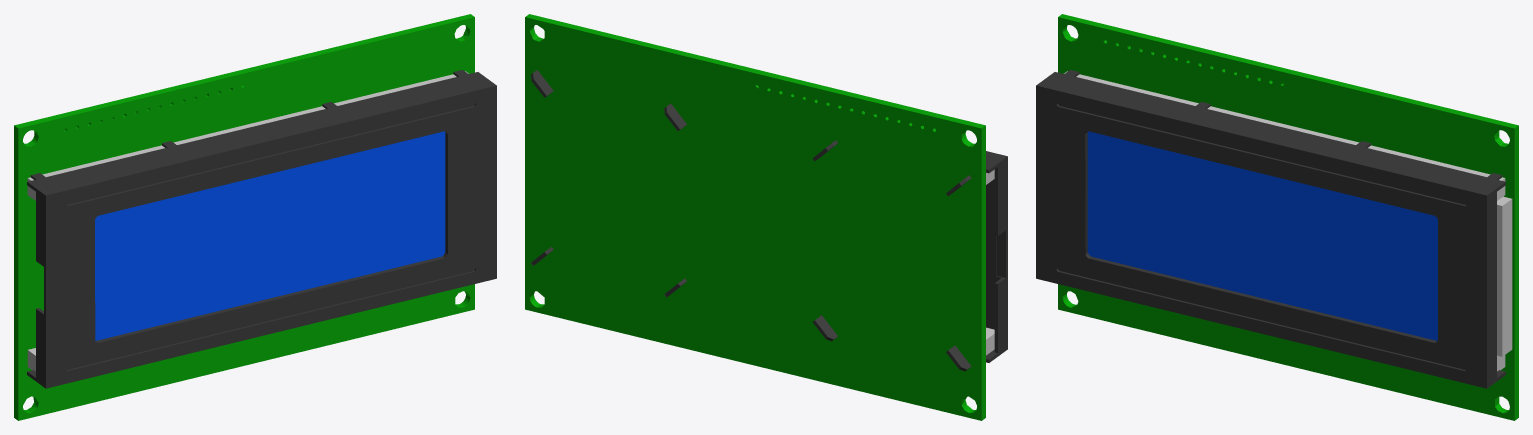
Rendered from lcd-20x4.glb.
3 views of the same model, side by side, from view 1: azimuth 30°, elevation 25°; view 2: azimuth 150°, elevation 25°; view 3: azimuth 330°, elevation 25° (orthographic).
Parts seen in each view (by area): view 1: part1, part3, part2, part0; view 2: part2, part1; view 3: part1, part3, part2, part0.
Part boxes in pixels (x1,y1,x2,y2): part1: (27,70,496,388); part3: (95,131,445,340); part2: (14,14,474,420); part0: (27,71,468,371); part2: (525,14,985,420); part1: (531,70,1007,371); part1: (1036,70,1505,388); part3: (1087,131,1437,340); part2: (1058,14,1518,420); part0: (1064,71,1512,371).
Bounding box in the file's own units: 0.0982 × 0.0601 × 0.0134.
